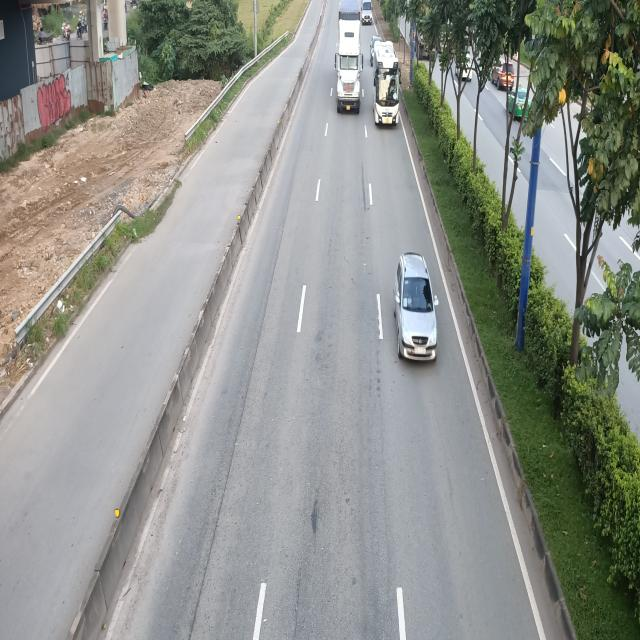car: (396, 250, 440, 362)
coach: (368, 39, 401, 128)
container: (336, 0, 364, 110)
